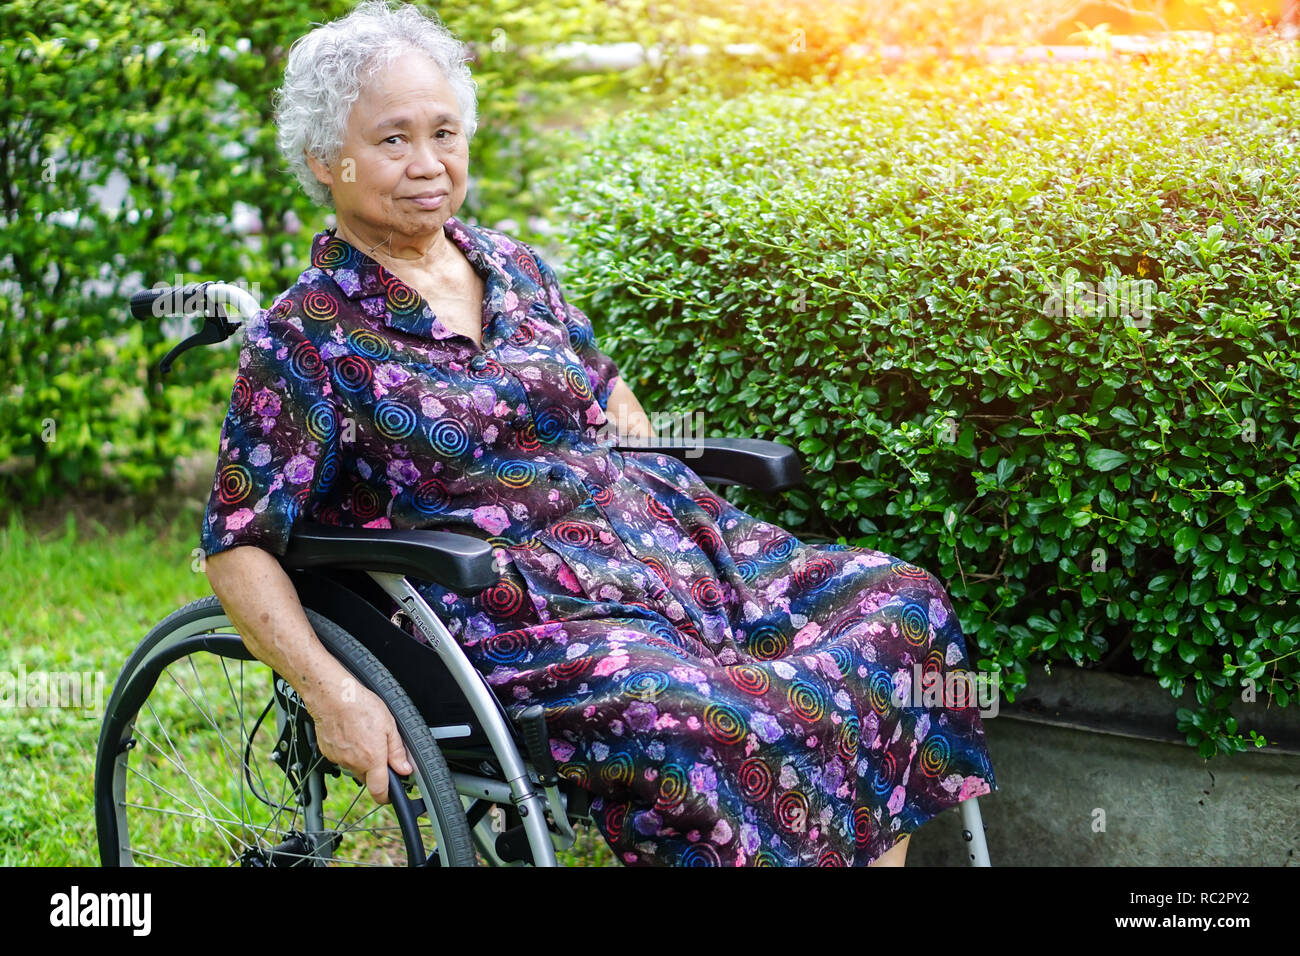wheelchair: (87, 2, 990, 863)
